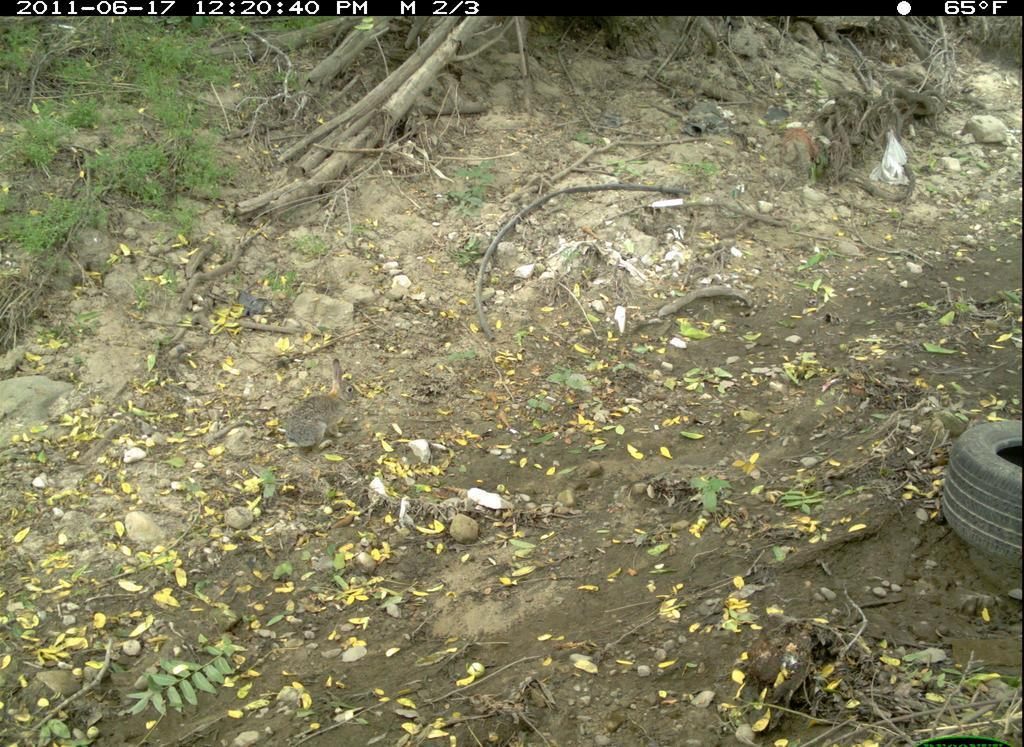rabbit: (267, 353, 391, 466)
